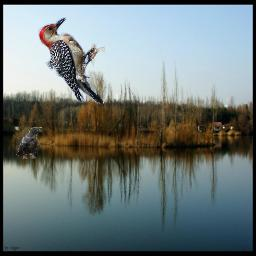Crow: (16, 127, 43, 159)
Woodpecker: (38, 17, 105, 108)
